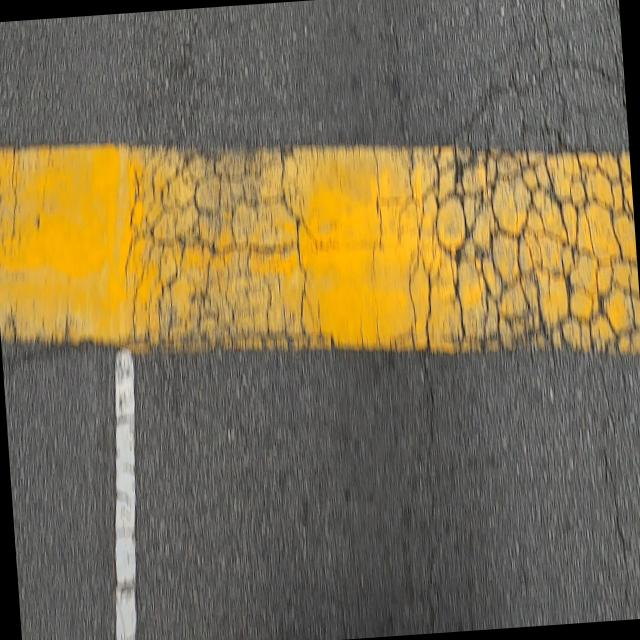Retak-Buaya: (402, 0, 640, 357), (120, 140, 321, 352)
Retak-Memanjang: (599, 454, 632, 604)
